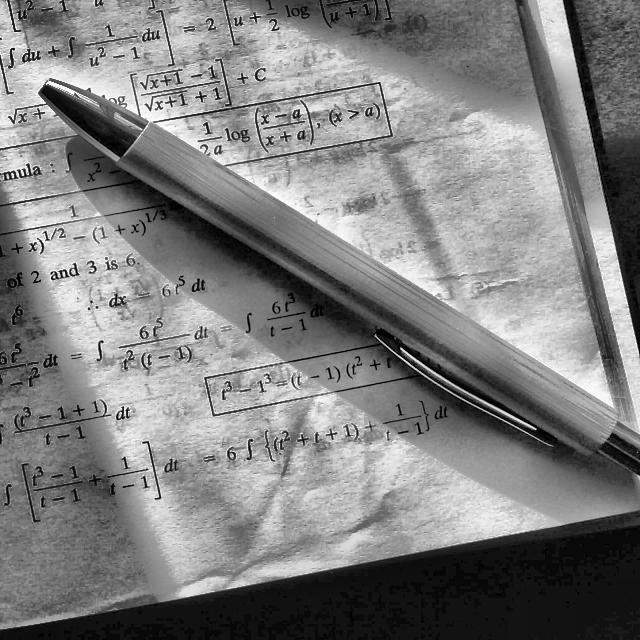Notebook: (0, 0, 640, 538)
Pen: (38, 72, 640, 485)
